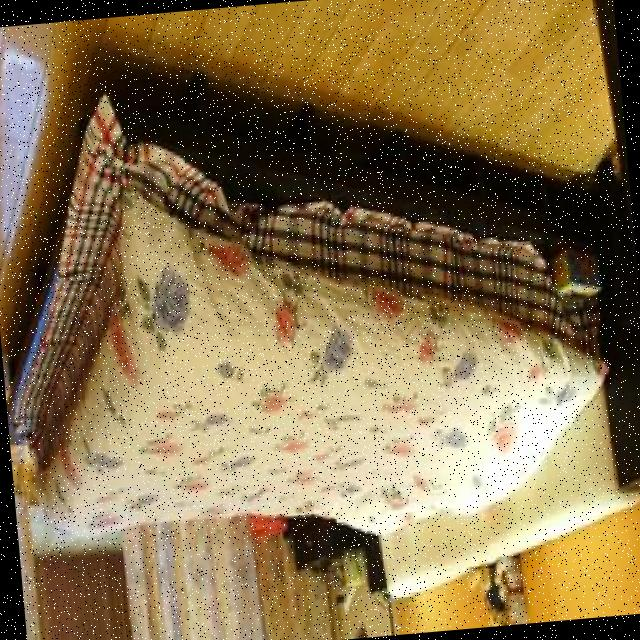Bed: (0, 8, 640, 631)
